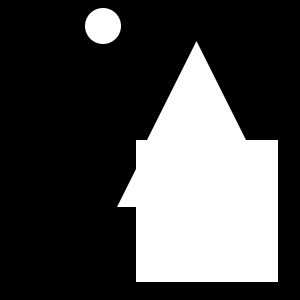circle: (136, 140, 278, 282), (220, 183, 245, 208)
rectangle: (85, 8, 121, 44)
triangle: (141, 41, 252, 152), (117, 117, 207, 207)
